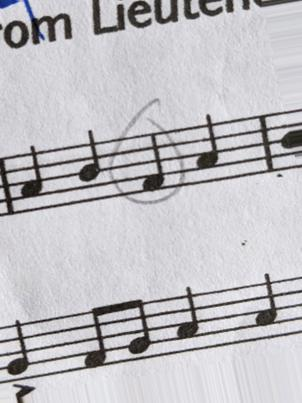note: (68, 126, 105, 200), (170, 284, 205, 354), (190, 113, 223, 184), (136, 132, 170, 198), (17, 143, 47, 216), (5, 319, 39, 379), (251, 274, 280, 340)
